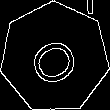O_NE: (23, 27, 86, 88)
